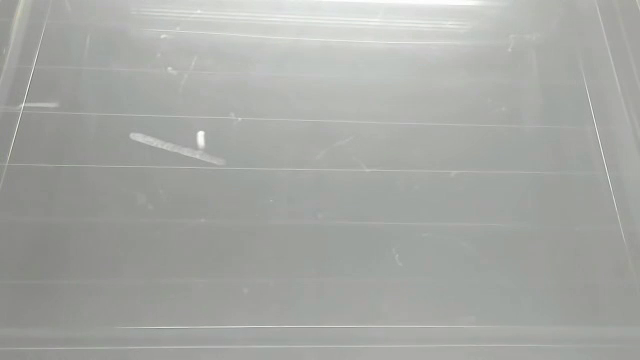alpha: (128, 131, 230, 171), (4, 99, 67, 114), (190, 127, 210, 151)
